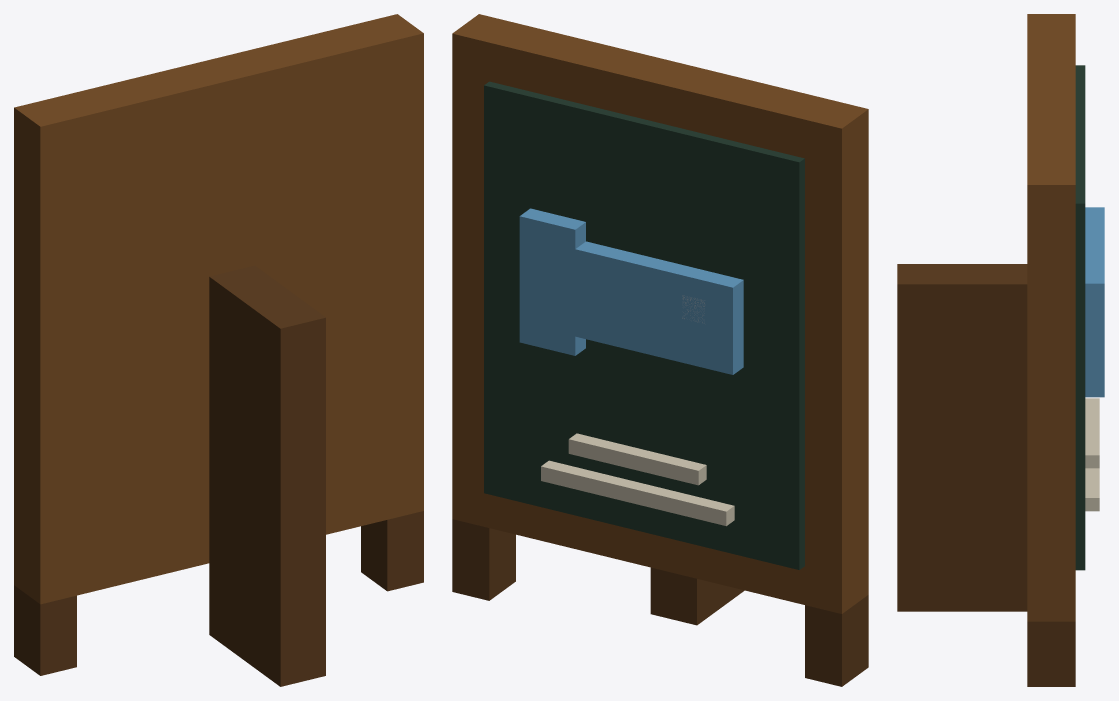
File: cp-chalkboard-fish.glb
The picture shows the model from 3 angles, left to right: view 1: azimuth 30°, elevation 25°; view 2: azimuth 150°, elevation 25°; view 3: azimuth 270°, elevation 25°; orthographic projection. The views are drawn at different scales.
Visible parts, largest first — view 1: box-prop; view 2: box-prop; view 3: box-prop.
Boxes of the visible parts, box(x1,y1,x2,y2) form: box-prop: box(14, 14, 423, 686); box-prop: box(452, 14, 868, 686); box-prop: box(897, 14, 1104, 686).
Bounding box in the file's own units: 0.84 × 1.15 × 0.43.
